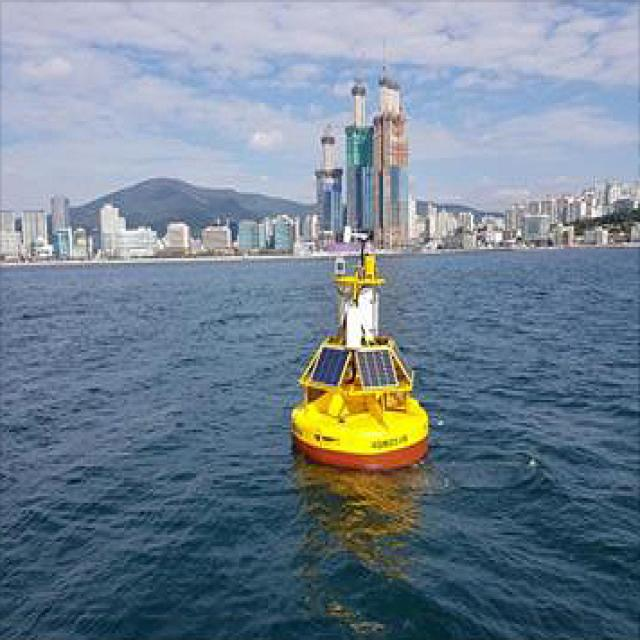2.5 sepcial mark: (272, 223, 459, 483)
